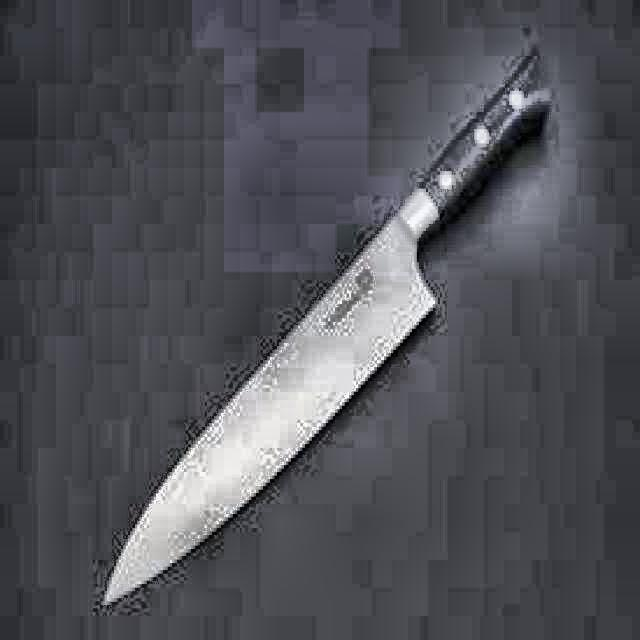knife: (91, 62, 554, 606)
